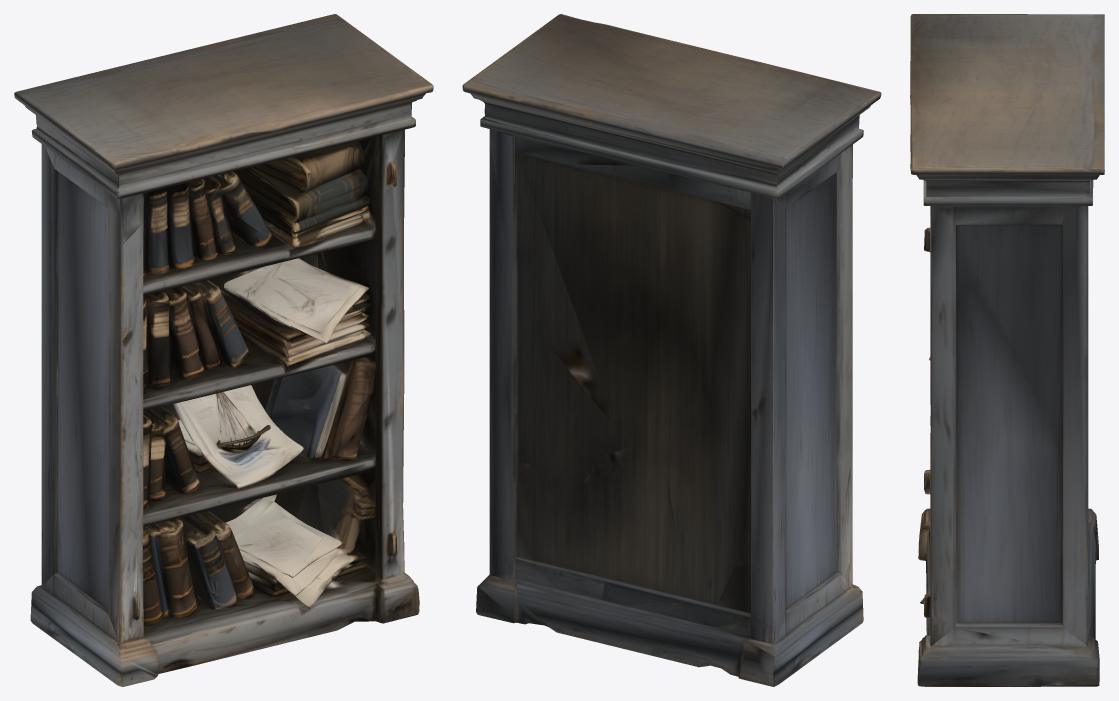
Rendered from lhi_bookcase_filled.glb.
The picture shows the model from 3 angles, left to right: view 1: azimuth 30°, elevation 25°; view 2: azimuth 150°, elevation 25°; view 3: azimuth 270°, elevation 25°; orthographic projection.
Parts seen in each view (by area): view 1: material; view 2: material; view 3: material.
Part boxes in pixels (left/top/right/bottom): material: left=14, top=14, right=433, bottom=686; material: left=462, top=14, right=881, bottom=686; material: left=910, top=14, right=1104, bottom=686.
Size of the model in its own units: 0.6209 by 0.9773 by 0.3291.
Materials: 1 (1 with a texture image).
